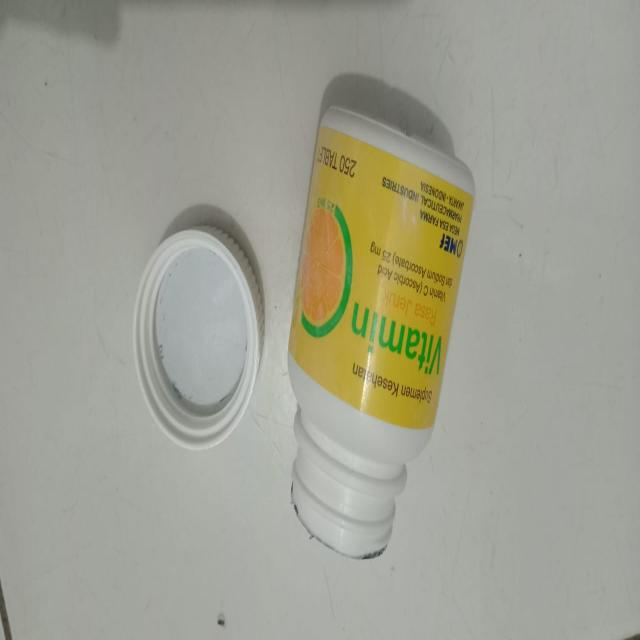obat: (288, 76, 474, 558), (132, 224, 264, 448)
